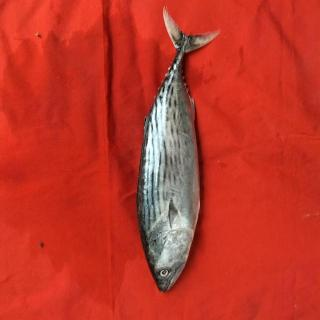Ikan: (134, 15, 218, 297)
